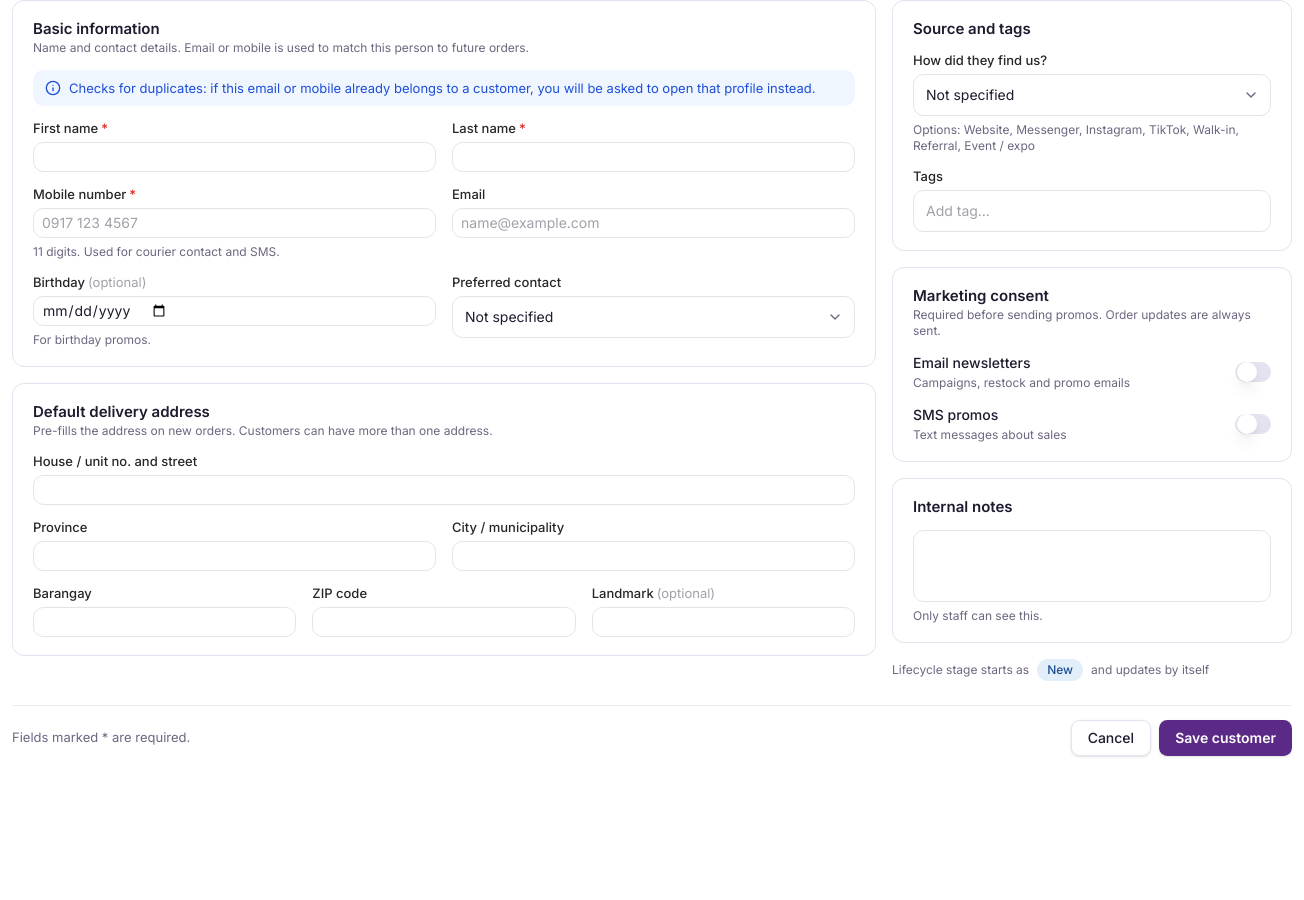
Test: AddCustomerForm › blocks saving and marks the required fields when they are empty
The image size is (1304, 900).
What coordinates should you click on to do the following:
click the button "Save customer"
I would click on:
 (1226, 738)
Its box is [1159,720,1292,756].
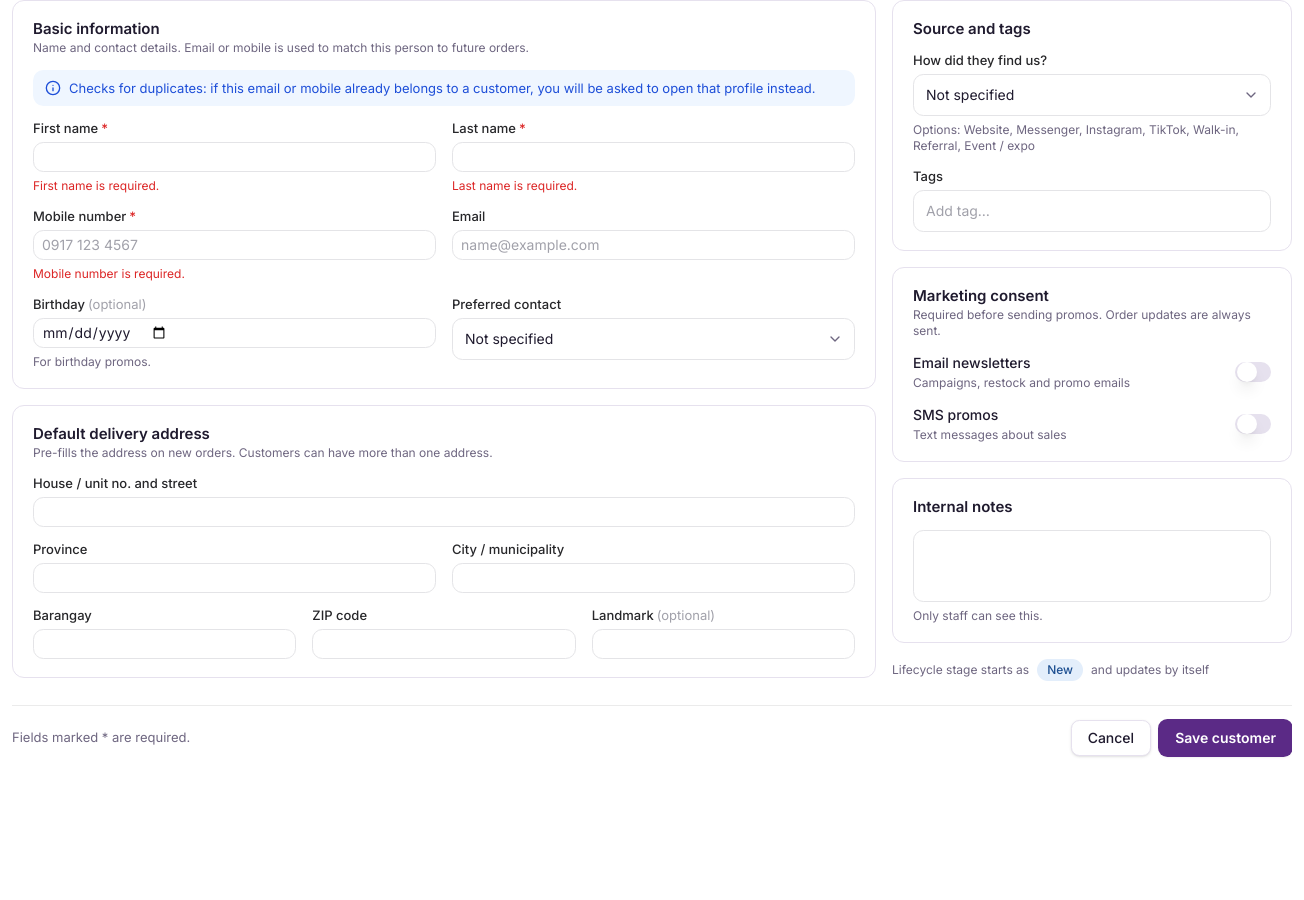
Check: the text "First name is required." is shown, box [33,178,159,193]
Check: the text "Last name is required." is shown, box [452,178,577,193]
Check: the text "Mobile number is required." is shown, box [33,266,185,281]
